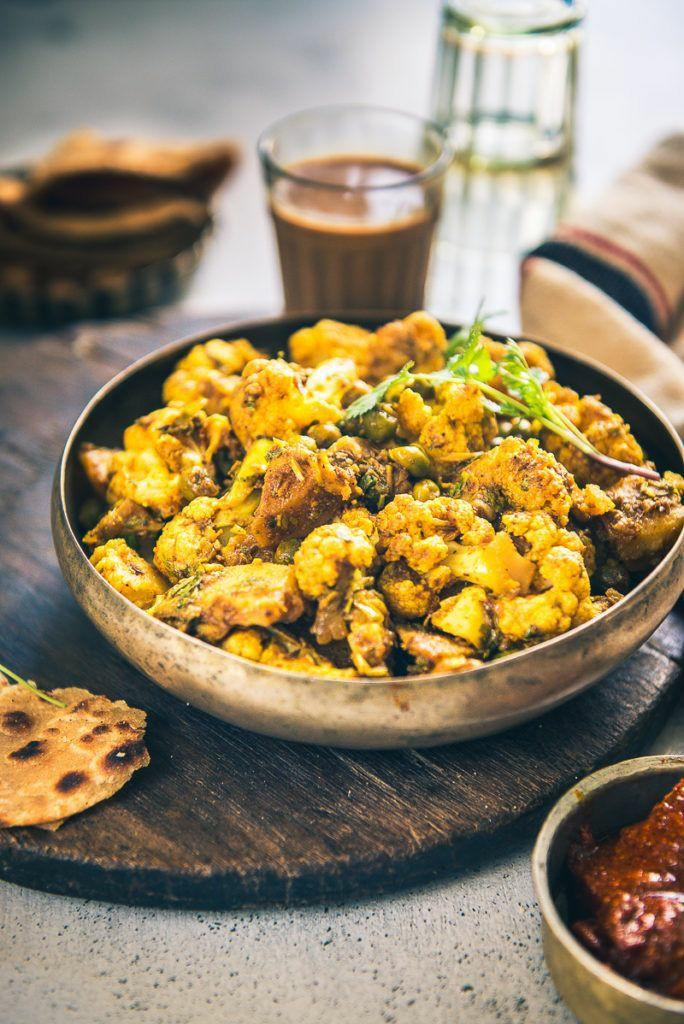AlooGobi: (80, 318, 684, 679)
Chai: (258, 162, 450, 312)
